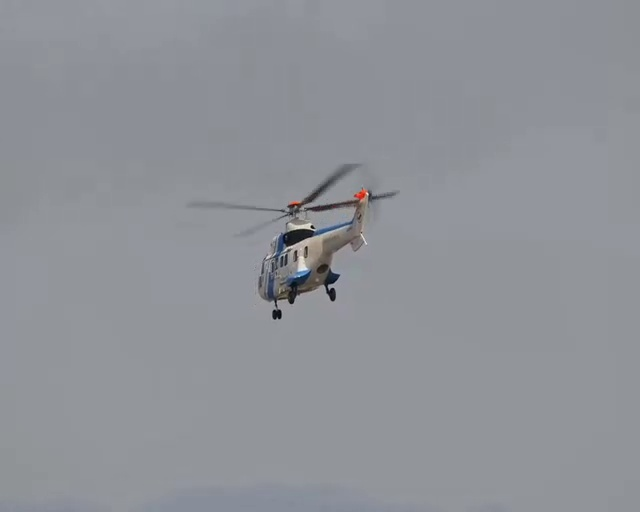HELICOPTER: (190, 161, 400, 324)
